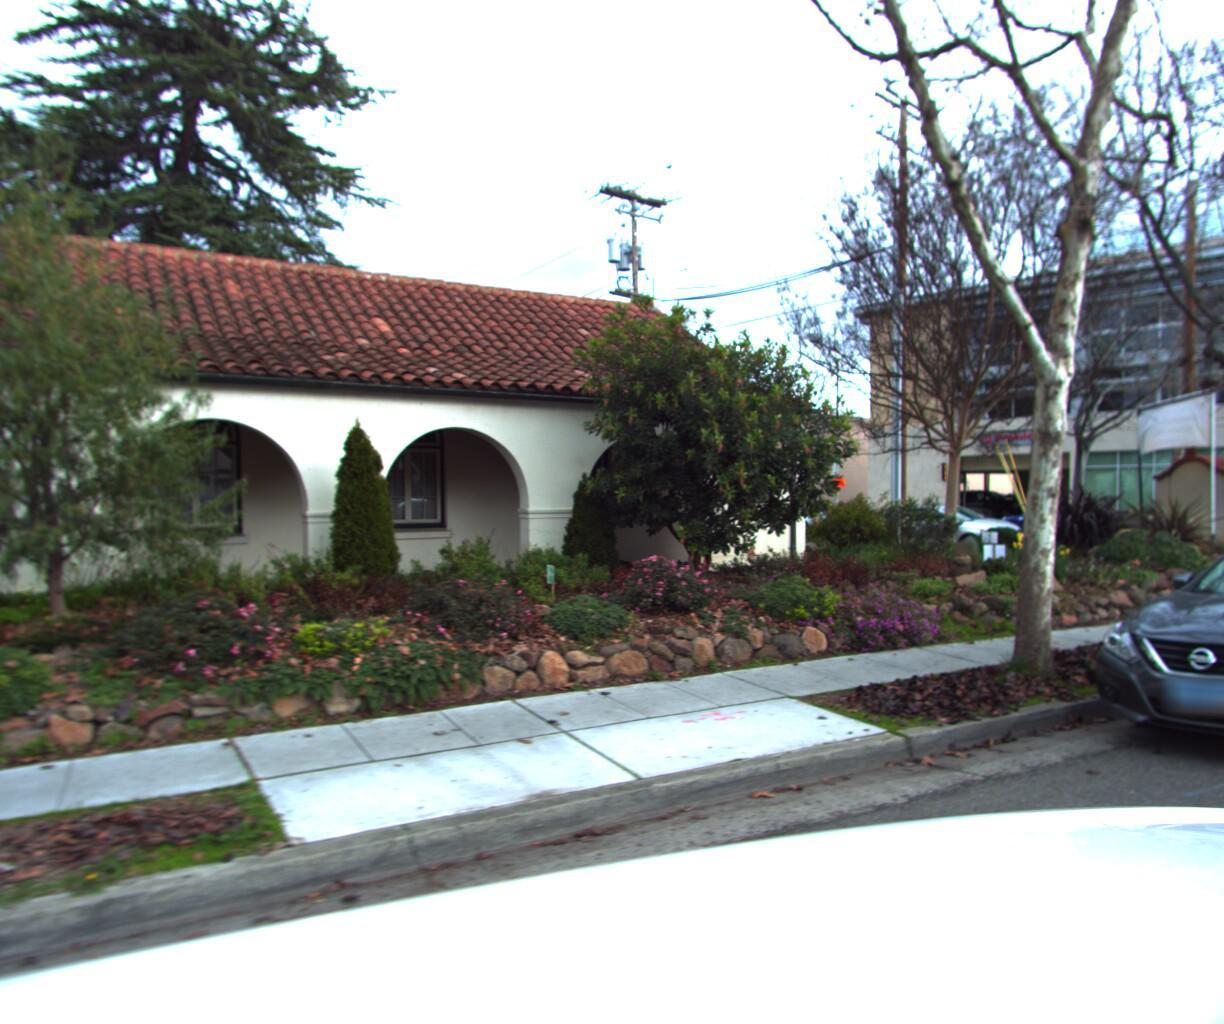car: (1056, 504, 1224, 826), (853, 499, 1038, 558), (1148, 486, 1224, 540)
